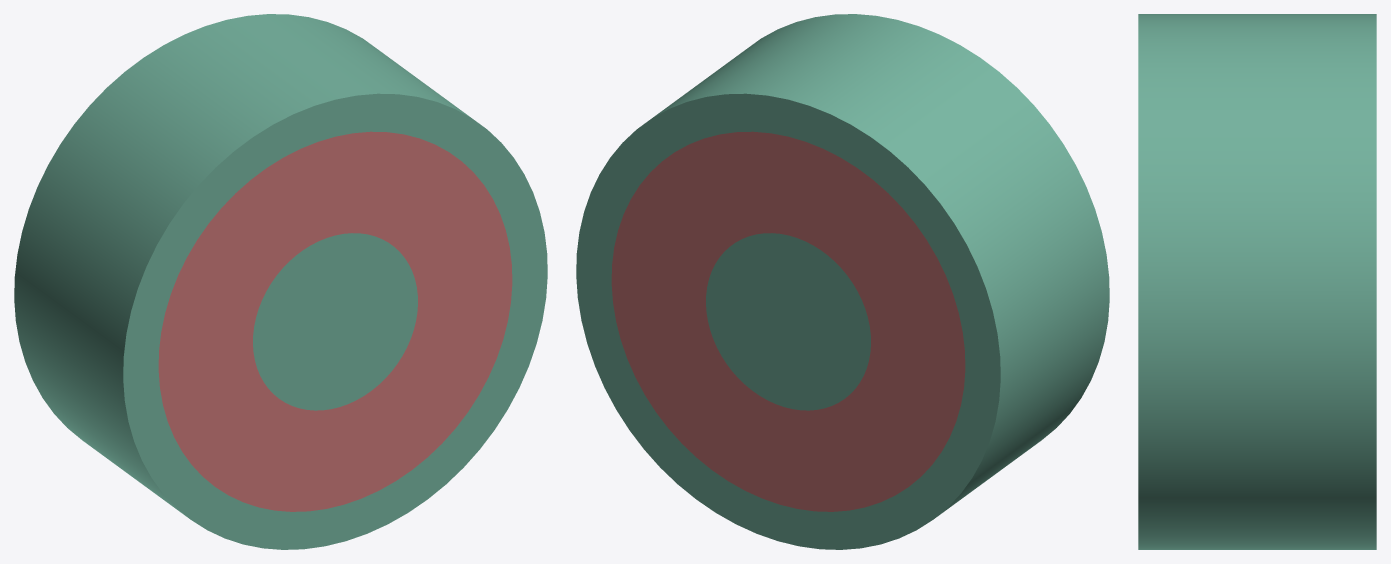
Rendered from step_11.glb.
3 views of the same model, side by side, from view 1: azimuth 30°, elevation 25°; view 2: azimuth 150°, elevation 25°; view 3: azimuth 270°, elevation 25° (orthographic). The views are drawn at different scales.
Visible parts, largest first — view 1: part__wheel centre, removed__wheel centre; view 2: part__wheel centre, removed__wheel centre; view 3: part__wheel centre.
Boxes of the visible parts, left/top/right/bottom form: part__wheel centre: left=14, top=14, right=547, bottom=549; removed__wheel centre: left=158, top=131, right=512, bottom=511; part__wheel centre: left=576, top=14, right=1109, bottom=549; removed__wheel centre: left=611, top=131, right=965, bottom=511; part__wheel centre: left=1138, top=14, right=1376, bottom=549.
Size of the model in its own units: 71.98 by 71.96 by 32.
